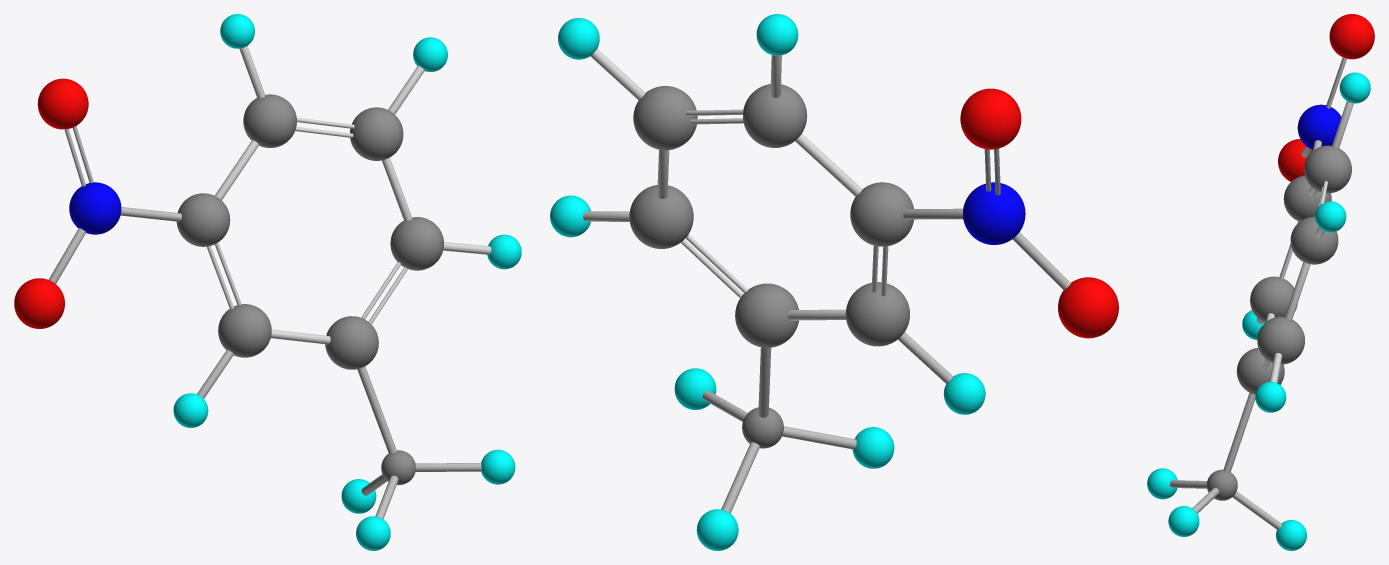
File: m-nitrotoluene.glb
3 renders of one model, left to right at view 1: azimuth 30°, elevation 25°; view 2: azimuth 150°, elevation 25°; view 3: azimuth 270°, elevation 25°, orthographic. The views are drawn at different scales.
Visible parts, largest first — view 1: CMAtom_3, CMAtom_4, CMAtom_1, CMAtom_5, CMAtom_0, CMAtom_2, CMAtom_12, CMAtom_10, CMAtom_11, CMAtom_6, CMAtom_7, CMAtom_15 (+8 smaller); view 2: CMAtom_5, CMAtom_4, CMAtom_0, CMAtom_2, CMAtom_3, CMAtom_1, CMAtom_12, CMAtom_10, CMAtom_11, CMAtom_7, CMAtom_14, CMAtom_9 (+12 smaller); view 3: CMAtom_1, CMAtom_3, CMAtom_10, CMAtom_5, CMAtom_4, CMAtom_12, CMAtom_2, CMAtom_0, CMAtom_11, CMAtom_7, CMAtom_8, CMAtom_9 (+10 smaller).
Boxes of the visible parts, x1,y1,x2,y2 form: CMAtom_3: (390,217,443,270); CMAtom_4: (218,304,271,357); CMAtom_1: (243,94,296,147); CMAtom_5: (350,107,403,160); CMAtom_0: (325,316,378,369); CMAtom_2: (176,193,230,246); CMAtom_12: (69,182,121,234); CMAtom_10: (37,78,88,129); CMAtom_11: (14,278,64,328); CMAtom_6: (173,393,208,427); CMAtom_7: (220,14,254,48); CMAtom_15: (481,449,515,484); CMAtom_5: (633,86,697,150); CMAtom_4: (845,282,909,346); CMAtom_0: (735,283,798,347); CMAtom_2: (850,182,913,246); CMAtom_3: (629,185,693,248); CMAtom_1: (743,84,807,147); CMAtom_12: (963,182,1025,244); CMAtom_10: (960,88,1021,149); CMAtom_11: (1058,277,1118,338); CMAtom_7: (756,14,798,55); CMAtom_14: (696,509,738,550); CMAtom_9: (558,18,599,59); CMAtom_1: (1304,145,1351,193); CMAtom_3: (1257,316,1304,364); CMAtom_10: (1329,14,1374,59); CMAtom_5: (1290,216,1338,264); CMAtom_4: (1250,276,1297,322); CMAtom_12: (1297,104,1341,149); CMAtom_2: (1283,175,1331,221); CMAtom_0: (1236,348,1284,394); CMAtom_11: (1278,139,1312,181); CMAtom_7: (1339,72,1370,103); CMAtom_8: (1255,381,1286,412); CMAtom_9: (1315,201,1346,232).
Size of the model in its own units: 6.43 by 6.23 by 2.93.
